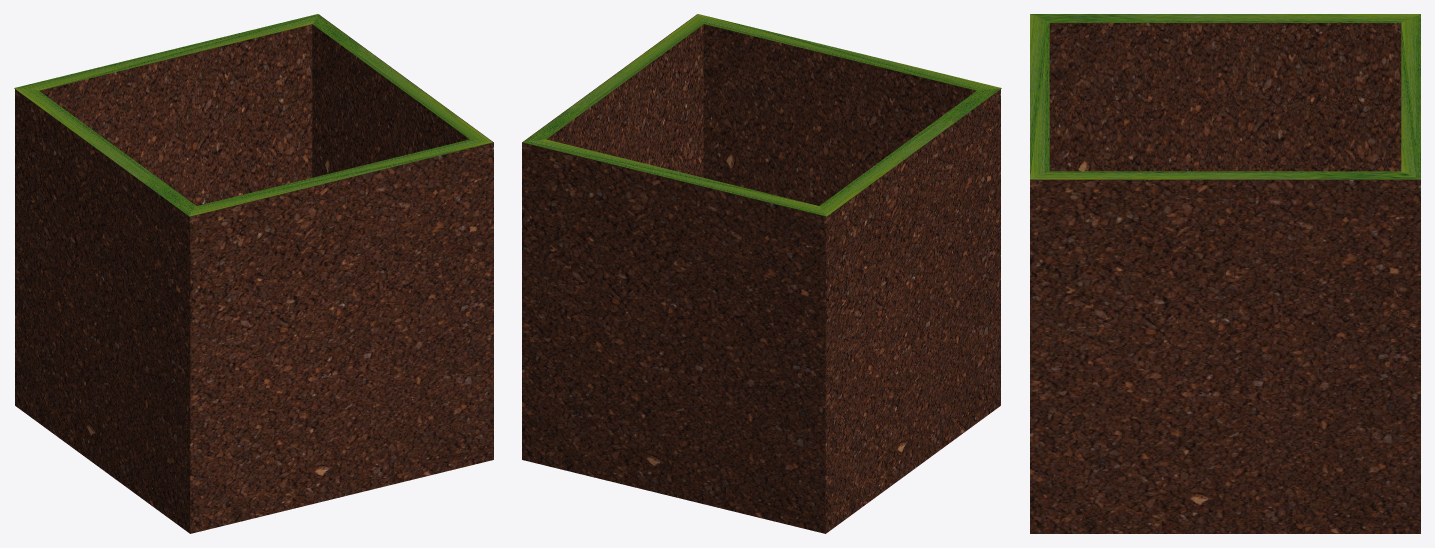
The model's file is hole.glb.
3 renders of one model, left to right at view 1: azimuth 30°, elevation 25°; view 2: azimuth 150°, elevation 25°; view 3: azimuth 270°, elevation 25°, orthographic. The views are drawn at different scales.
Parts seen in each view (by area): view 1: Box & Box 1, Box 2 & Box 1; view 2: Box & Box 1, Box 2 & Box 1; view 3: Box & Box 1, Box 2 & Box 1.
Boxes of the visible parts, x1,y1,x2,y2 form: Box & Box 1: (15,14,493,533); Box 2 & Box 1: (14,14,492,216); Box & Box 1: (522,14,1000,533); Box 2 & Box 1: (523,14,1001,216); Box & Box 1: (1030,23,1420,533); Box 2 & Box 1: (1030,14,1420,179).
Size of the model in its own units: 1 by 1 by 1.
Materials: 2 (2 with a texture image).
